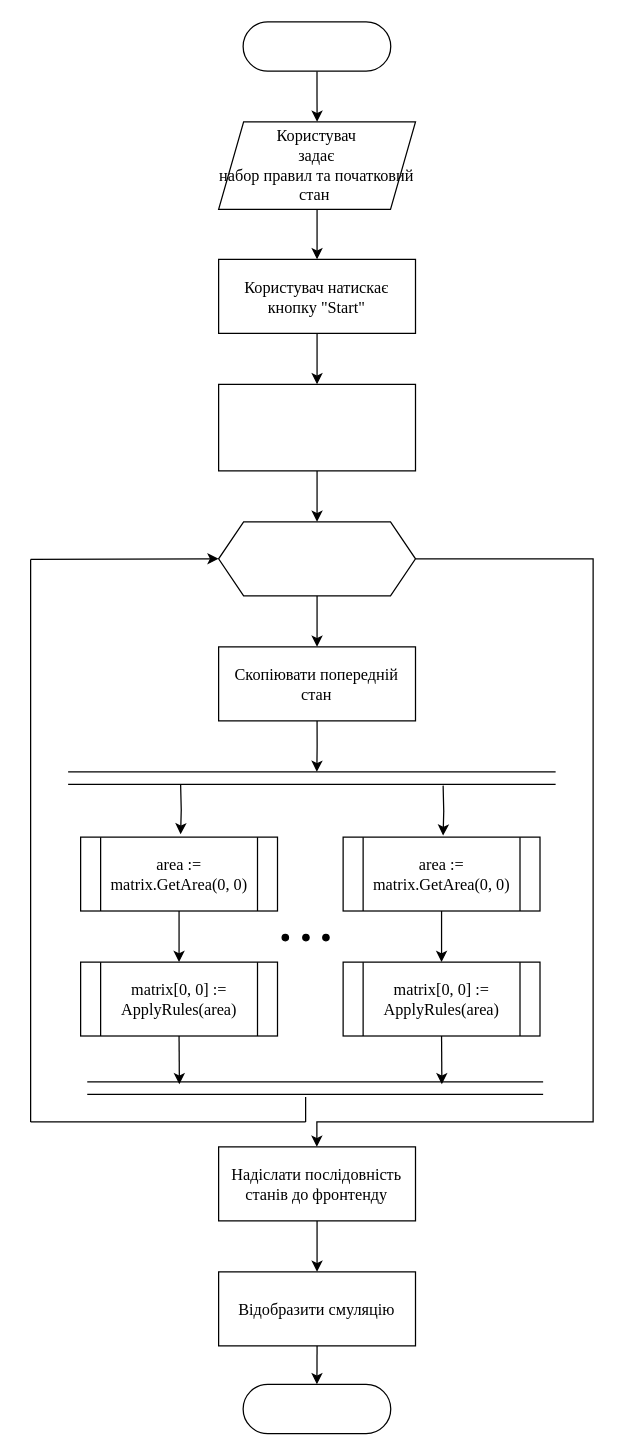
This 625x1456 diagram has some shape labels left out. Each missing label, with the centre of its shape:
"i := 1.. steps" goes at [316,558].
"Запит із початковим станом, набором правил та кількістю кроків steps на сервер" goes at [316,427].
"Кінець" goes at [316,1408].
"Початок" goes at [316,46].
